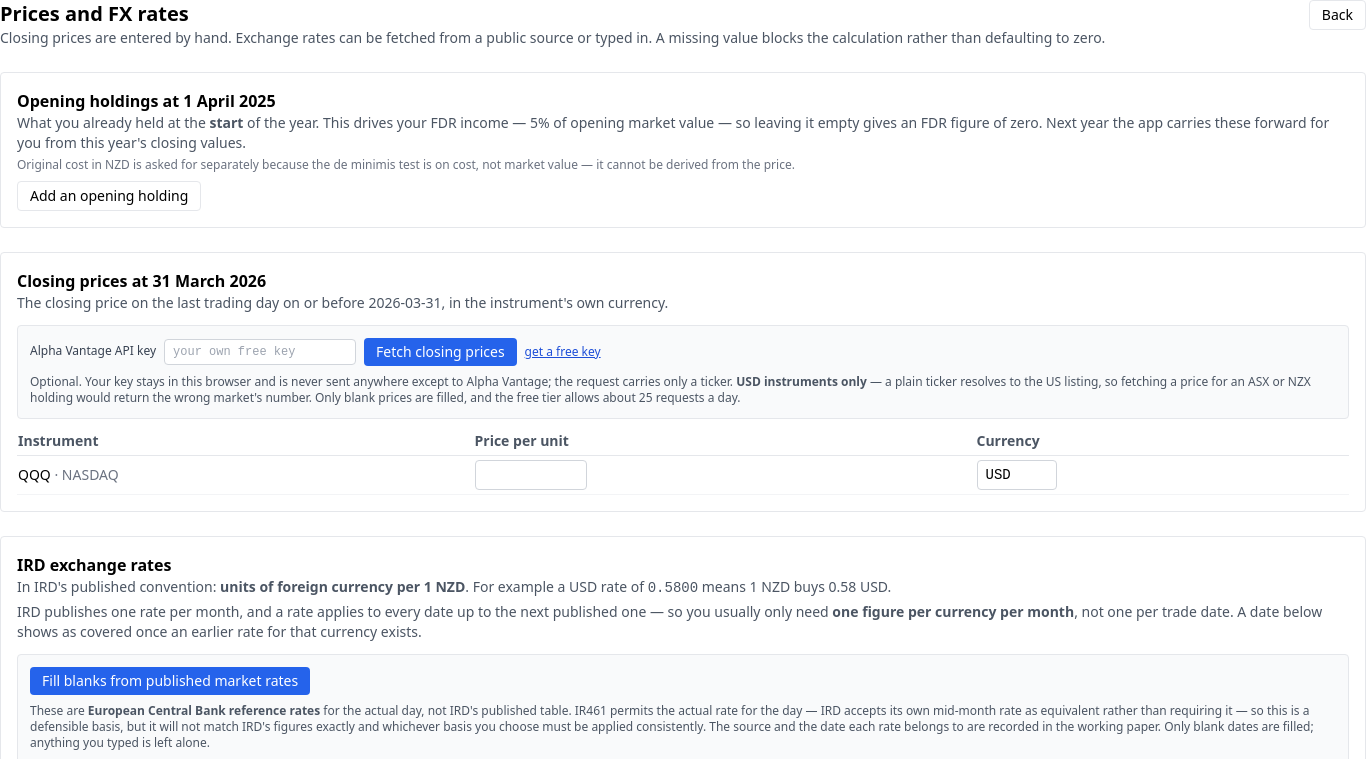
fetching closing prices › surfaces a rate-limit reply instead of silently filling nothing
The width and height of the screenshot is (1366, 759).
Type "k" into the password field labelled "Alpha Vantage API key" at (260, 352), box [164, 339, 356, 365]
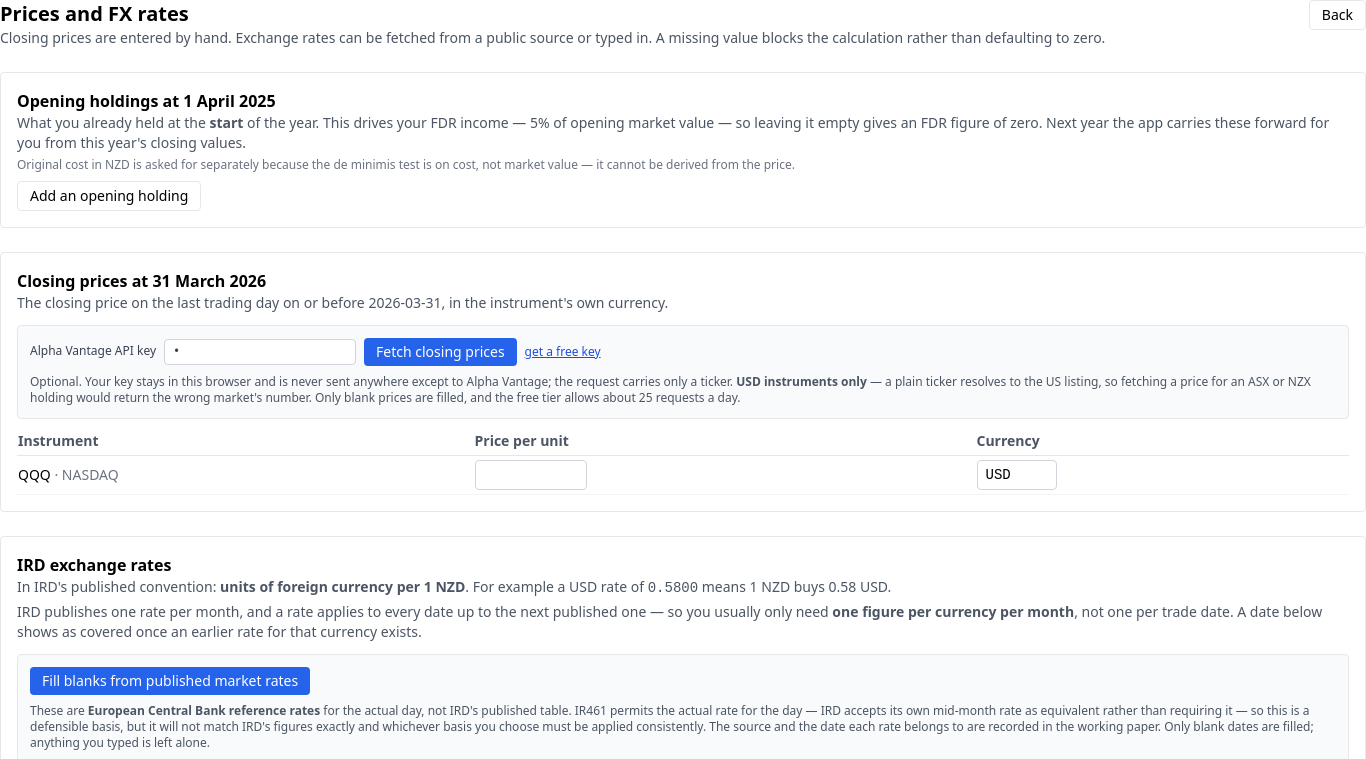
Click the button with test id "fetch-prices" at (440, 352), box [364, 338, 517, 366]
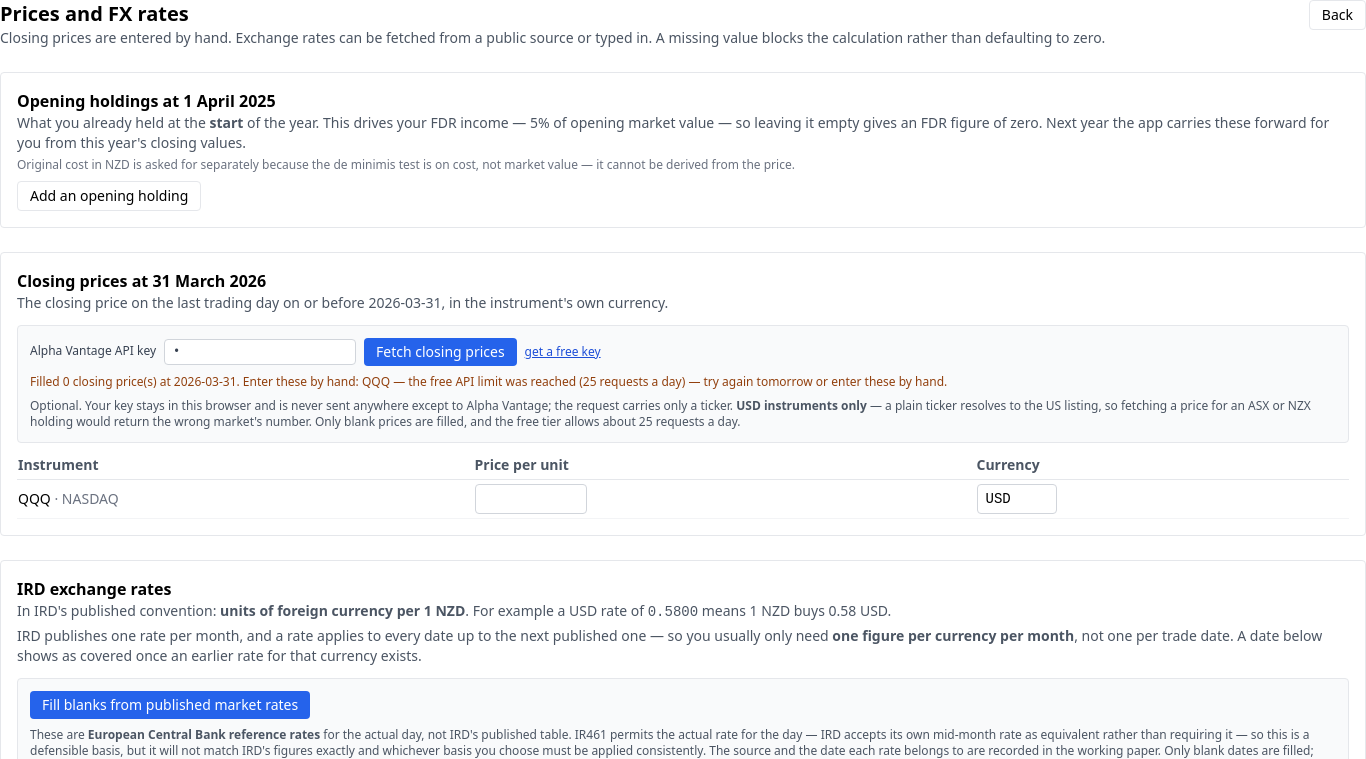
Result: the text with test id "fetch-prices-message" shows "free API limit was reached" at [30, 373, 947, 390]
